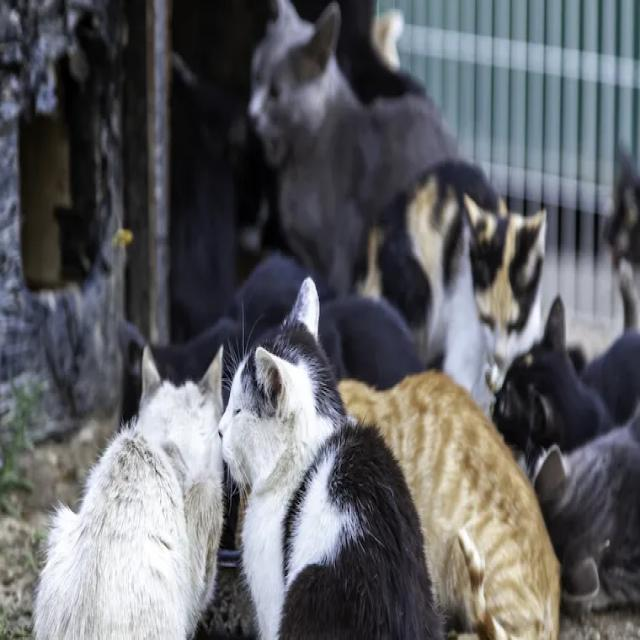cat: (219, 278, 442, 637), (249, 0, 456, 294), (339, 371, 559, 638), (34, 347, 222, 638), (378, 159, 545, 414), (151, 252, 308, 401), (535, 409, 640, 612), (494, 296, 612, 472), (319, 296, 424, 388), (582, 331, 640, 424), (604, 152, 640, 266)
